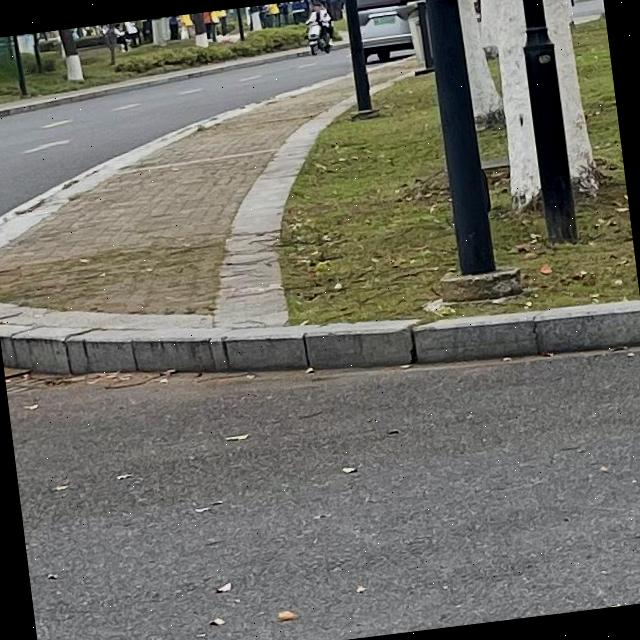curb: (0, 301, 640, 374), (0, 51, 306, 116)
